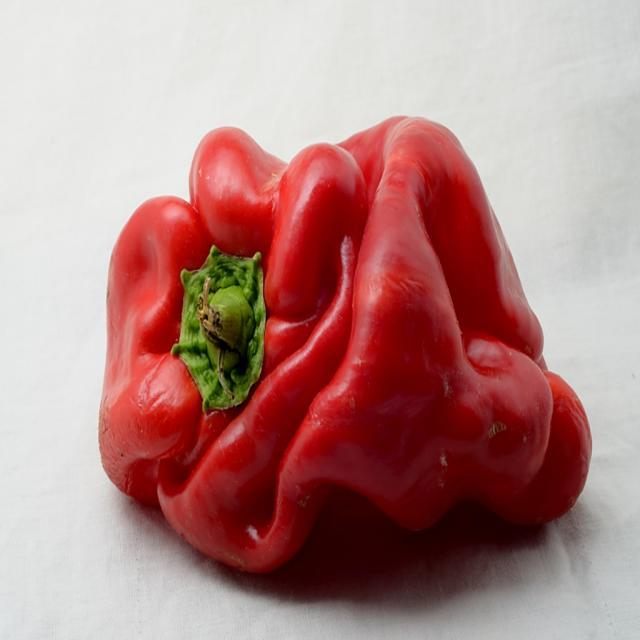Bell pepper: (97, 112, 592, 584)
